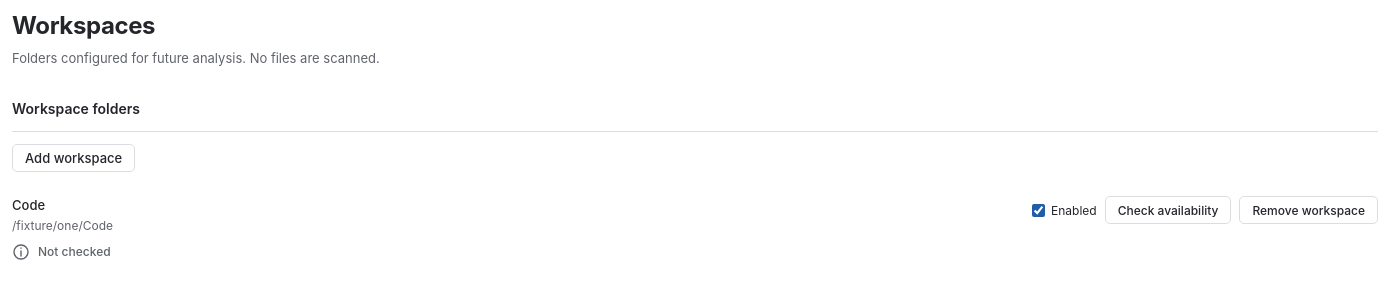
Test: Workspaces view › announces availability in its row without a redundant generic success message
Click the button "Check availability": (1168, 210) [1105,196,1232,224]
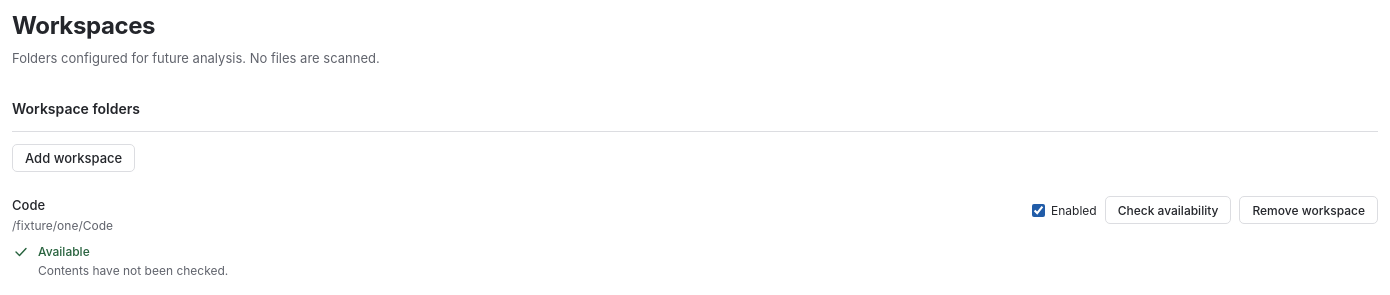
Check: the text "Contents have not been checked." is shown, box [38,263,228,278]
